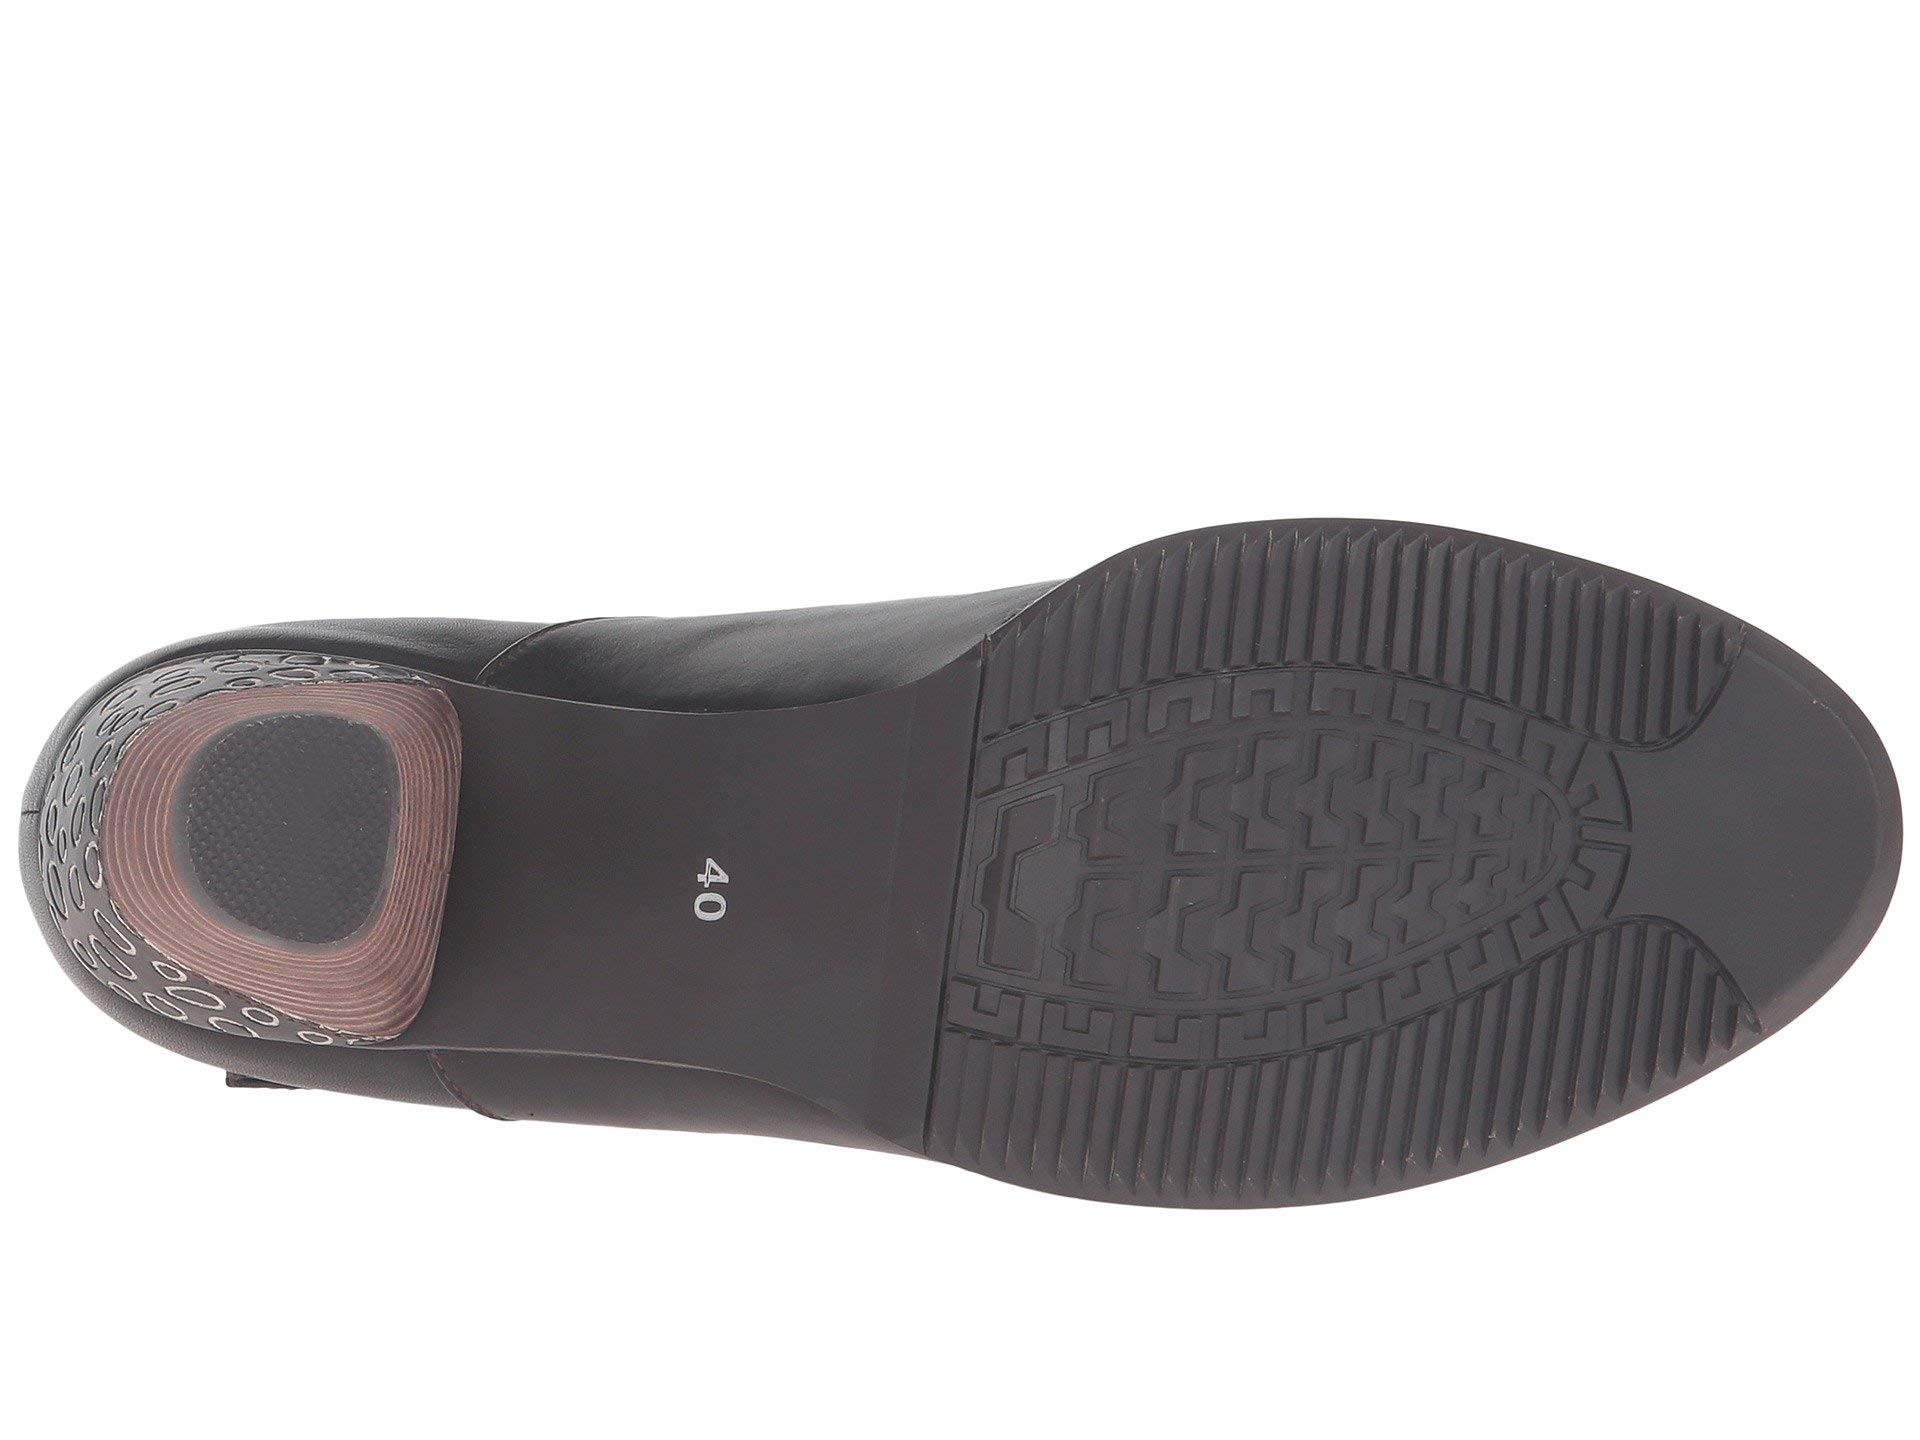quad: (1149, 525, 1516, 690), (1079, 1057, 1341, 1209), (1547, 929, 1722, 1094), (1554, 560, 1696, 740), (1377, 1018, 1507, 1171)
